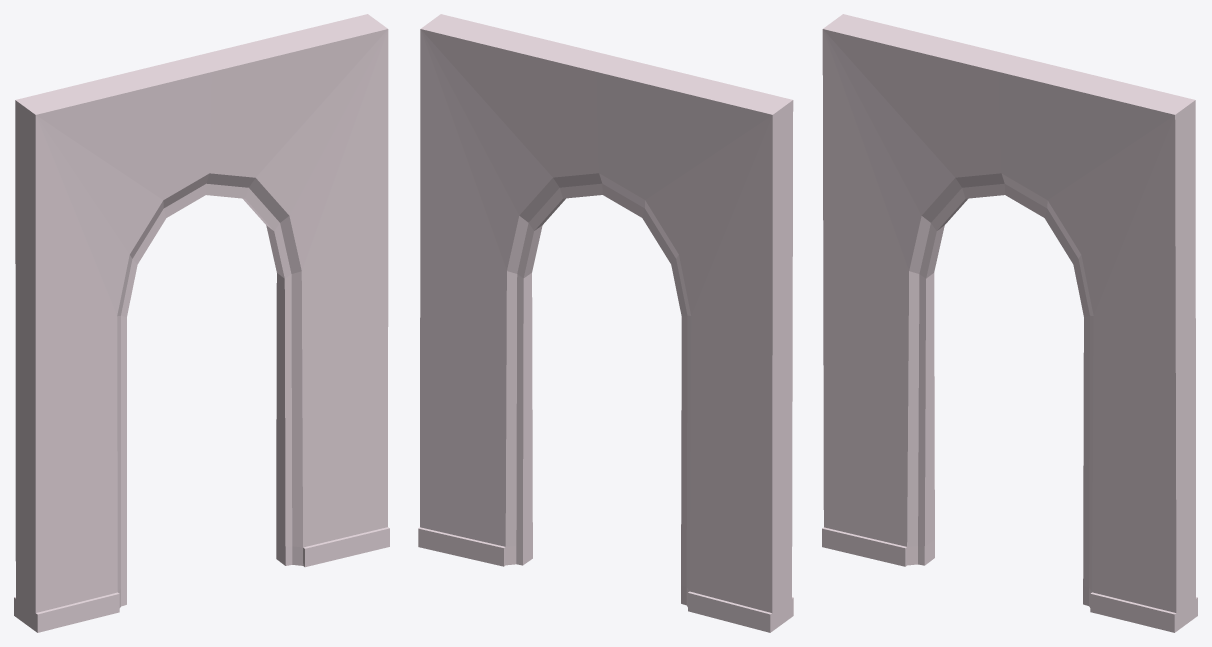
The model's file is env_wall_arc_door_int.fbx.
3 views of the same model, side by side, from view 1: azimuth 30°, elevation 25°; view 2: azimuth 150°, elevation 25°; view 3: azimuth 330°, elevation 25° (orthographic).
Parts seen in each view (by area): view 1: Casa pared arco marco puerta Interior; view 2: Casa pared arco marco puerta Interior; view 3: Casa pared arco marco puerta Interior.
Part boxes in pixels (<box>): Casa pared arco marco puerta Interior: <box>14,14,389,632</box>; Casa pared arco marco puerta Interior: <box>418,14,793,632</box>; Casa pared arco marco puerta Interior: <box>822,14,1197,632</box>.
Size of the model in its own units: 200 by 280 by 23.
Materials: 1 (1 with a texture image).
